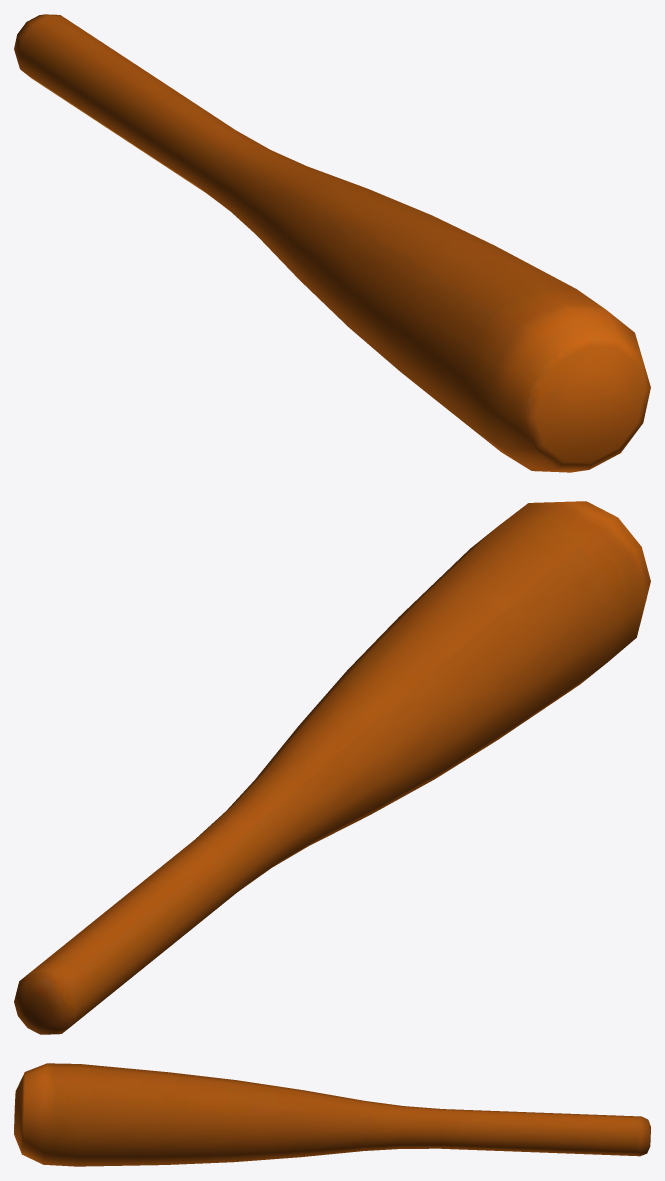
File: Bat_Prop New.fbx
3 views of the same model, one above another, from view 1: azimuth 30°, elevation 25°; view 2: azimuth 150°, elevation 25°; view 3: azimuth 270°, elevation 25° (orthographic). The views are drawn at different scales.
Parts seen in each view (by area): view 1: Danda; view 2: Danda; view 3: Danda.
Part boxes in pixels (bbox=[...]): Danda: bbox=[14, 14, 650, 472]; Danda: bbox=[14, 501, 650, 1034]; Danda: bbox=[14, 1063, 650, 1166].
Size of the model in its own units: 22.6 by 22.76 by 140.
